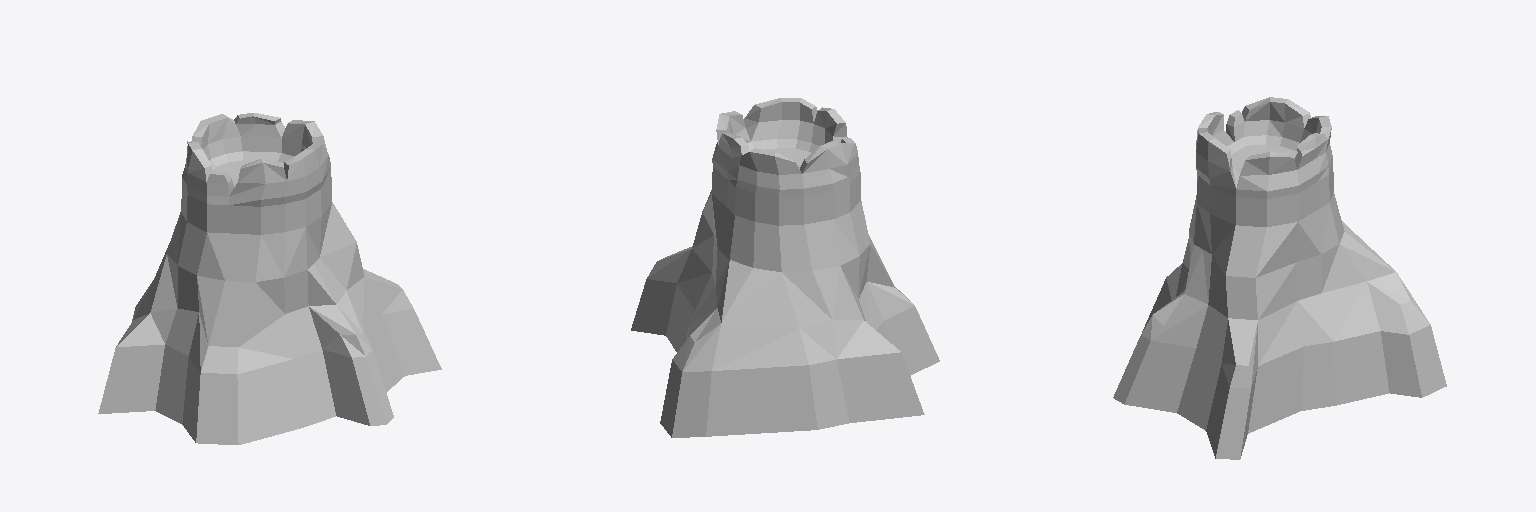
File: tree_stump_1.obj
3 views of the same model, side by side, from view 1: azimuth 30°, elevation 25°; view 2: azimuth 150°, elevation 25°; view 3: azimuth 270°, elevation 25° (orthographic).
Size of the model in its own units: 3.51 by 2.71 by 3.23.